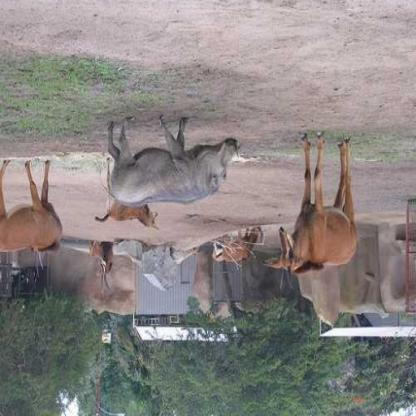boar: (94, 96, 266, 218)
